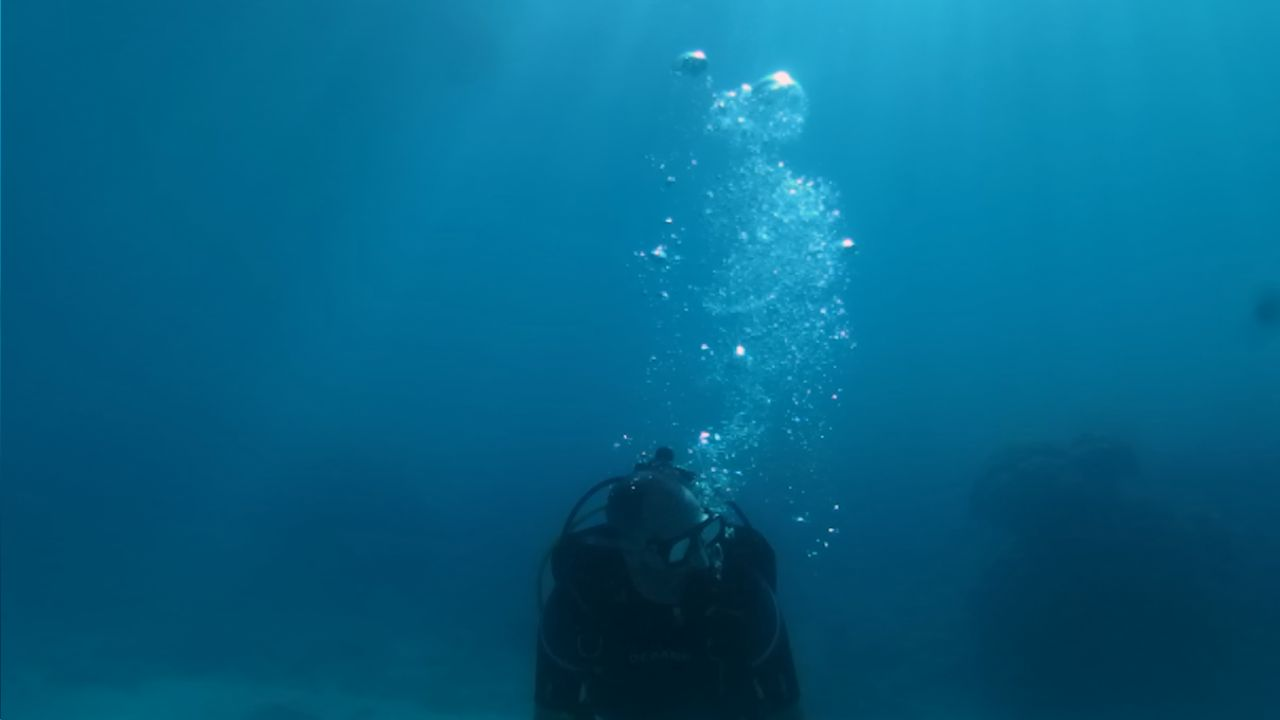Diver: (488, 410, 830, 706)
